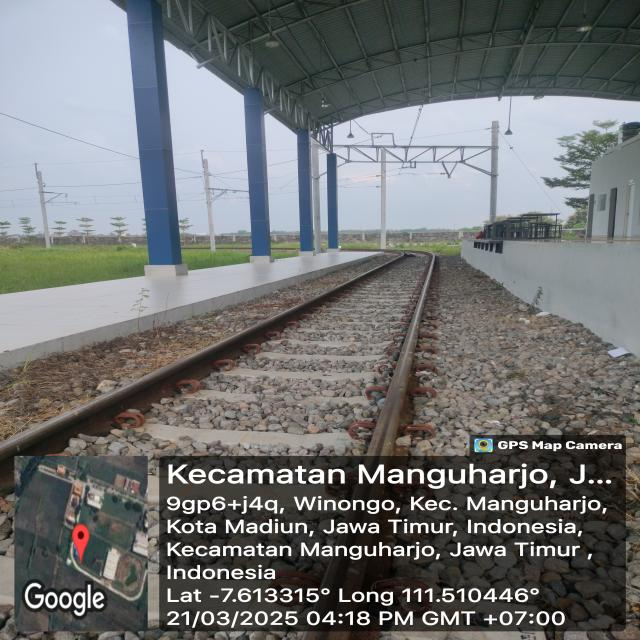rail-detection: (0, 254, 405, 487), (367, 254, 435, 456)
